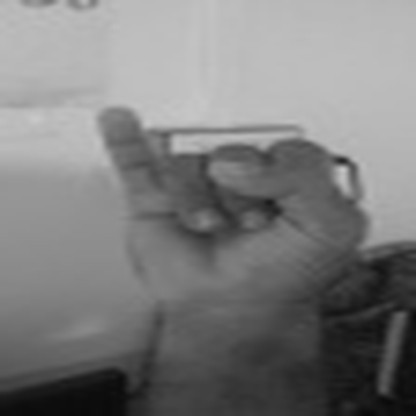i: (87, 98, 378, 306)
